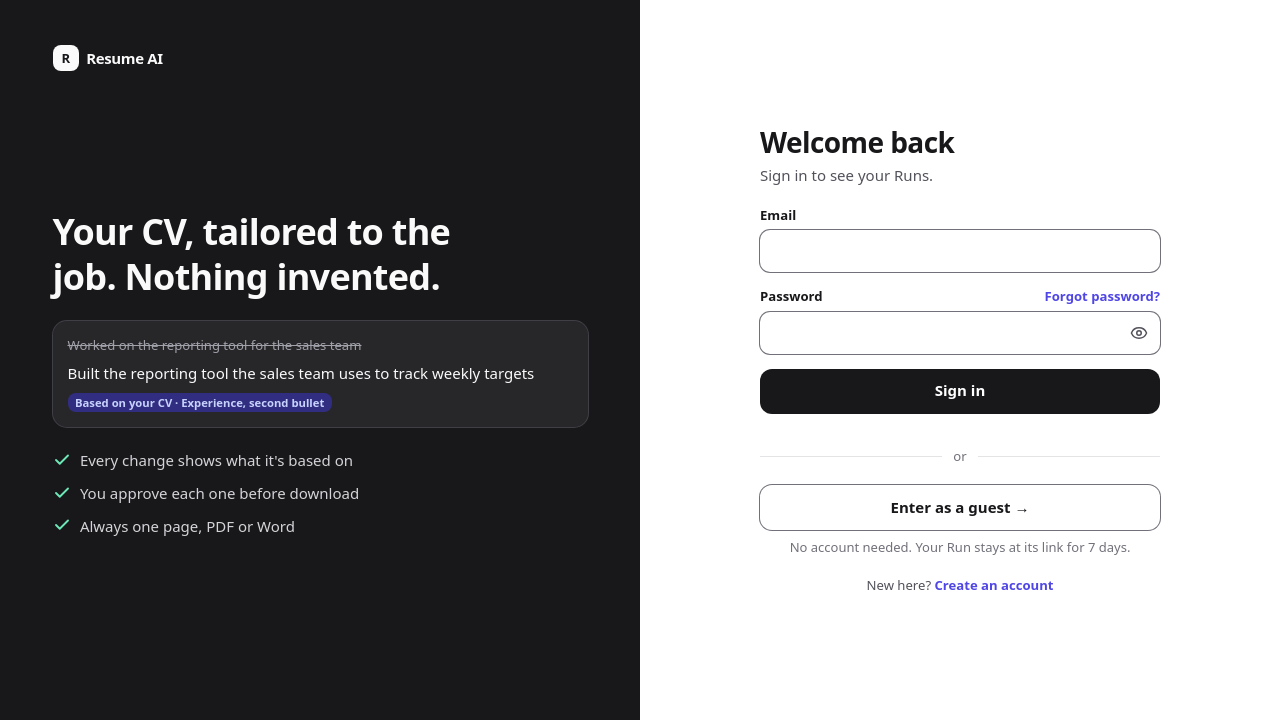
Test: Sign in › a valid submit shows the coming-soon note, and Forgot password shows it too
Click the button "Forgot password?": point(1102, 297) [1044,287,1160,306]
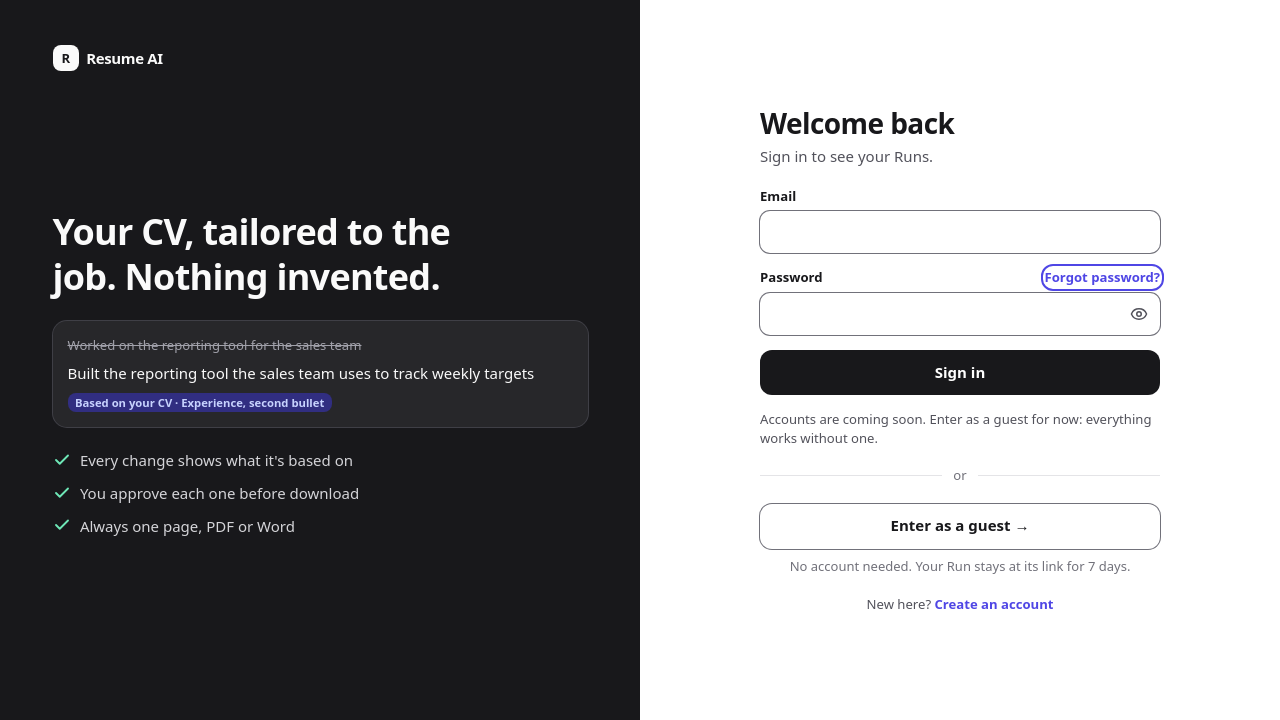
Check: the message shows "Accounts are coming soon. Enter as a guest for now: everything works without one.", box [760,410,1152,447]
In the field labelled "Email": point(960, 232) [760,211,1160,253], type "ada@example.com"
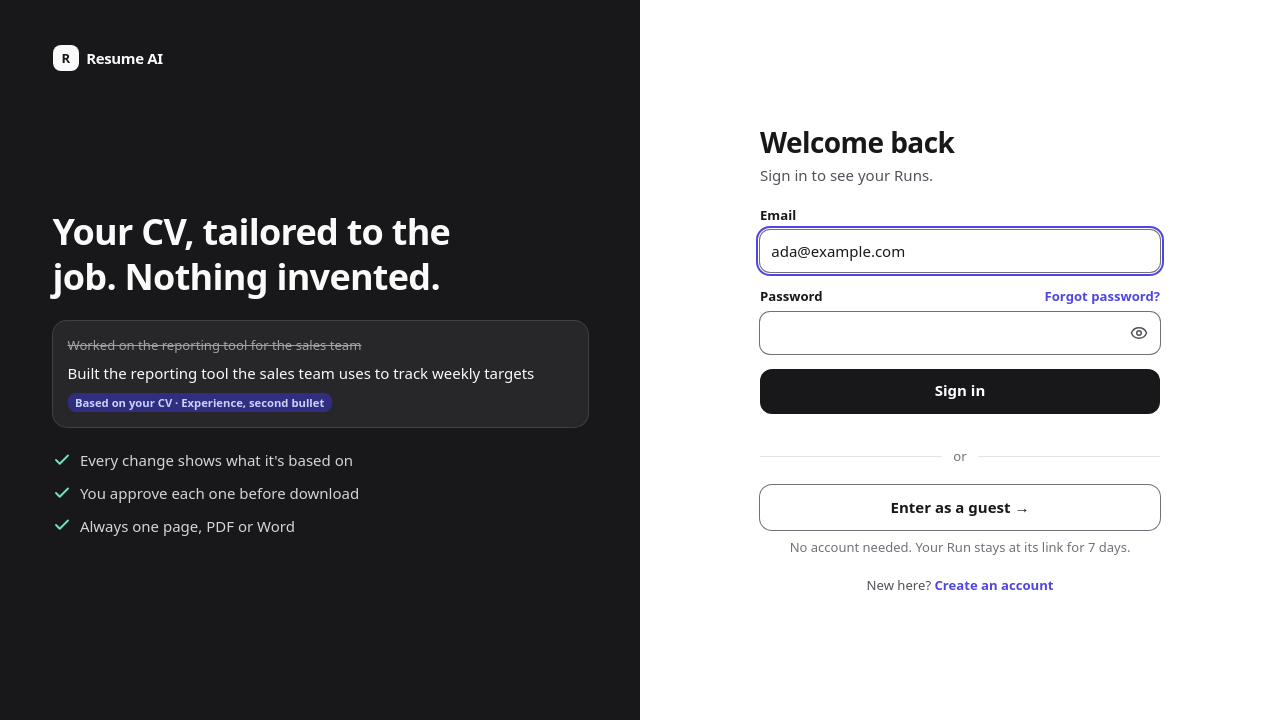
In the password field labelled "Password": point(960, 332) [760,312,1160,354], type "hunter2"
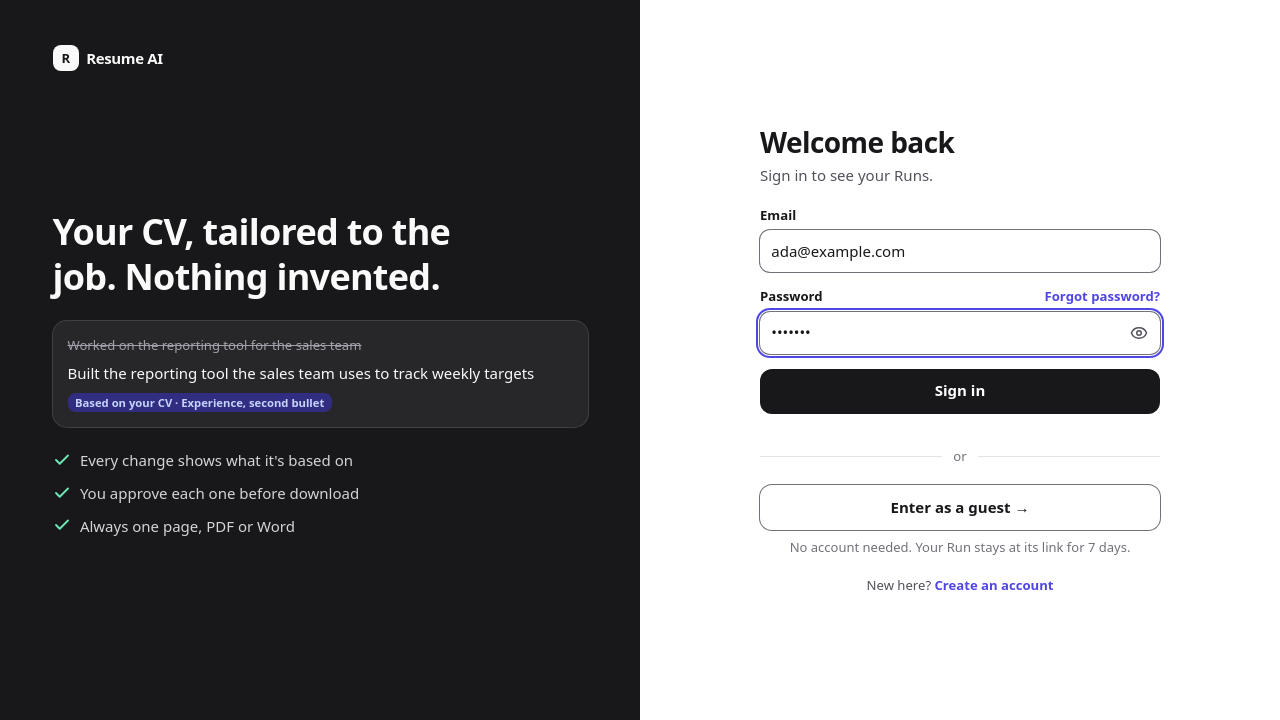
Click the button "Sign in": point(960, 391) [760,368,1160,414]
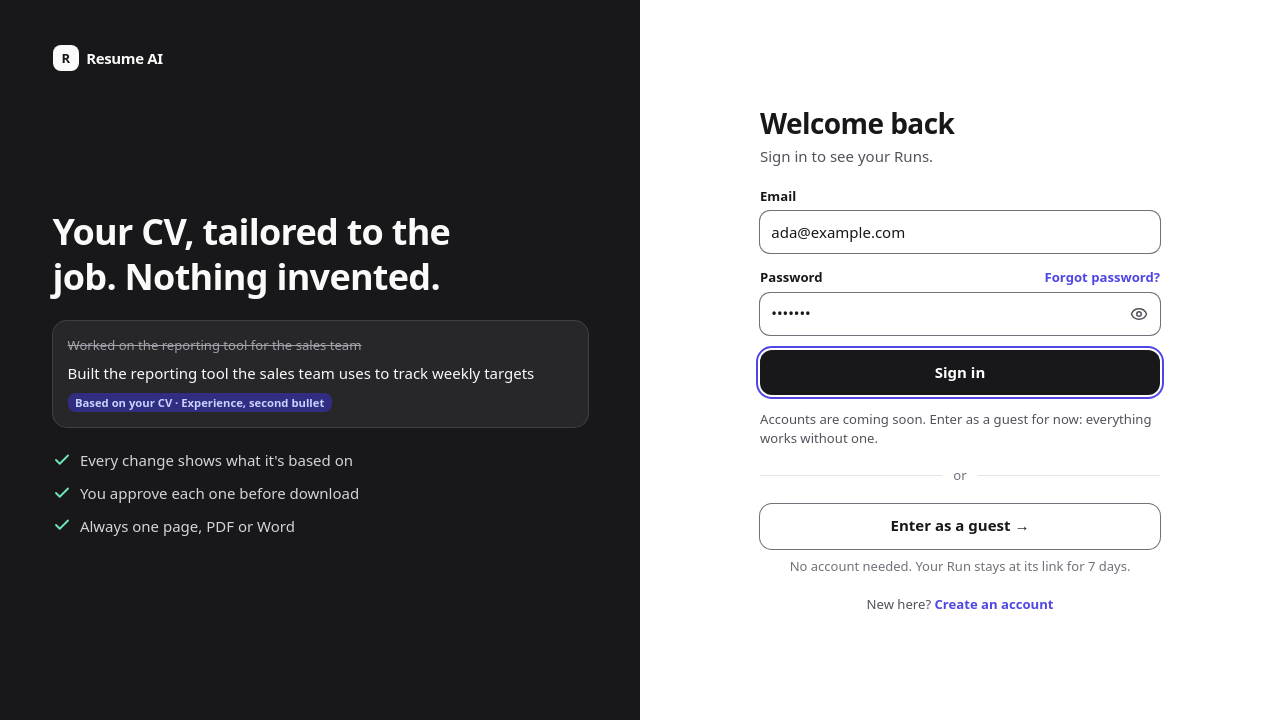
Check: the message shows "Accounts are coming soon. Enter as a guest for now: everything works without one.", box [760,410,1152,447]
